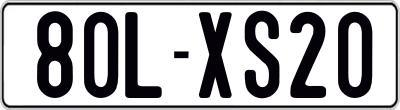0: (335, 12, 373, 100), (83, 10, 120, 98)
2: (288, 9, 327, 98)
8: (37, 10, 78, 101)
L: (124, 10, 161, 97)
S: (243, 8, 278, 96)
X: (197, 12, 231, 98)
